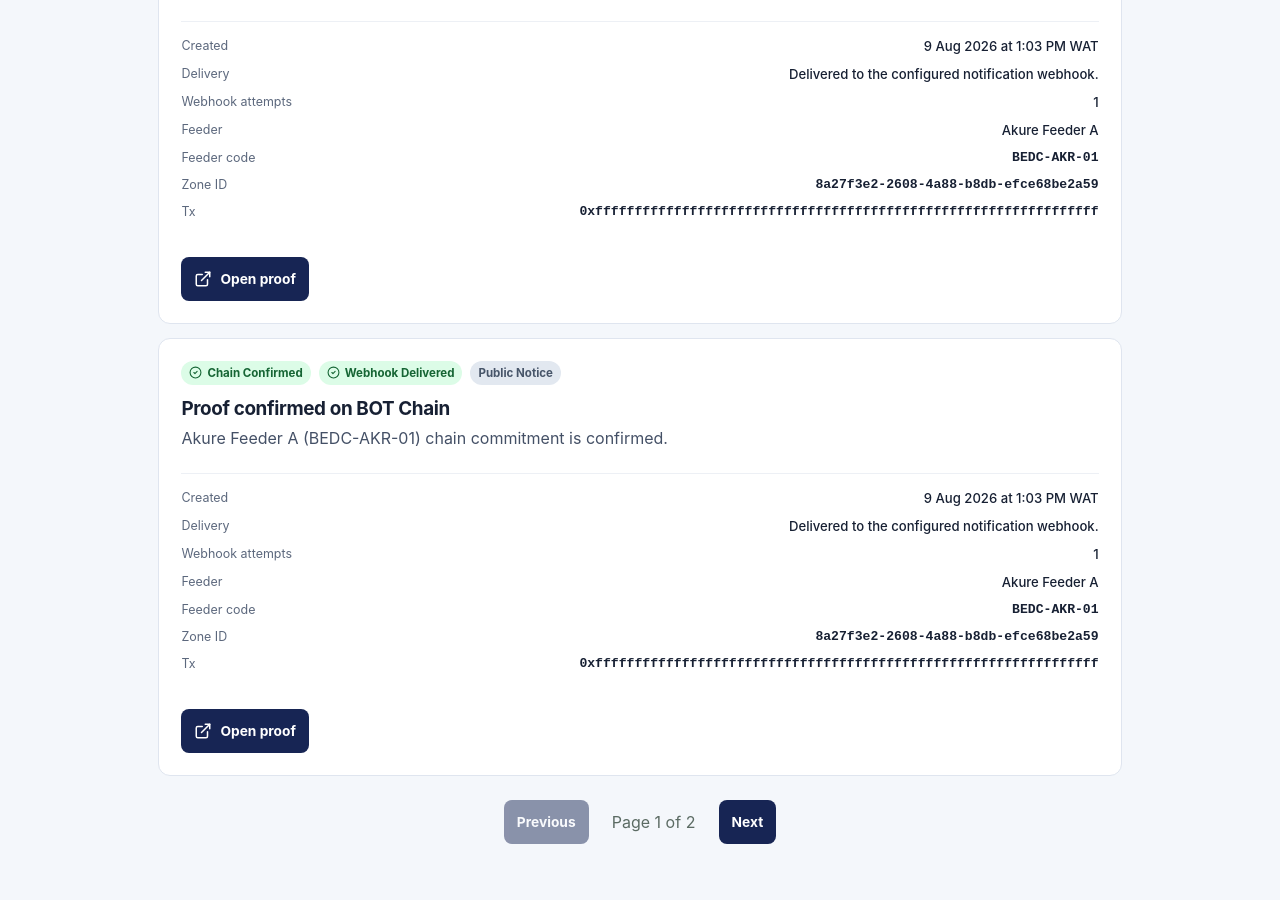
NotificationCenter › paginates long notification lists
(page scrolled)
What coordinates should you click on to do the following:
click the button "Next"
I would click on:
 (747, 822)
Its box is [719, 800, 776, 844].
(page scrolled)
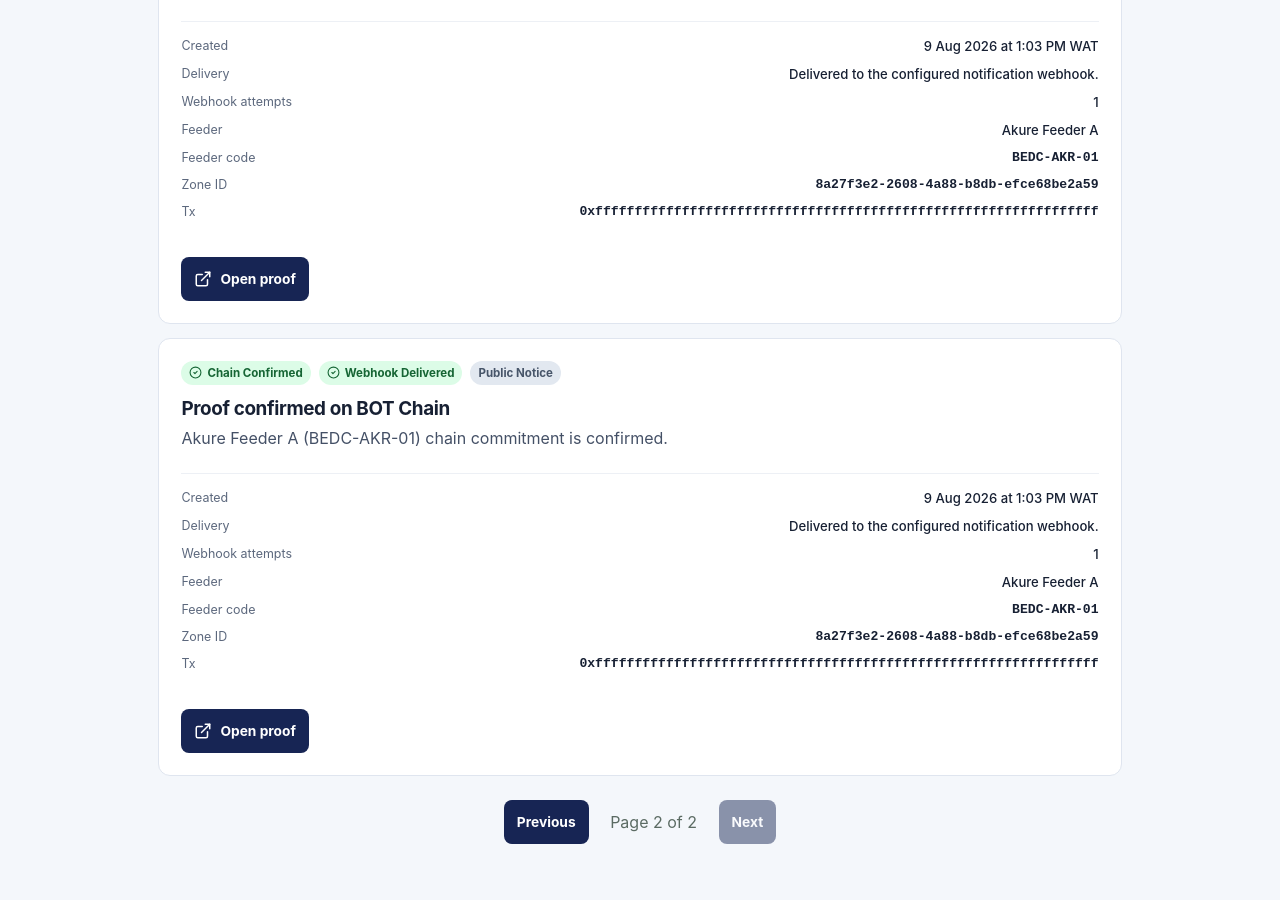
Expected: the text "Page 2 of 2" is shown, [610, 812, 697, 832]
